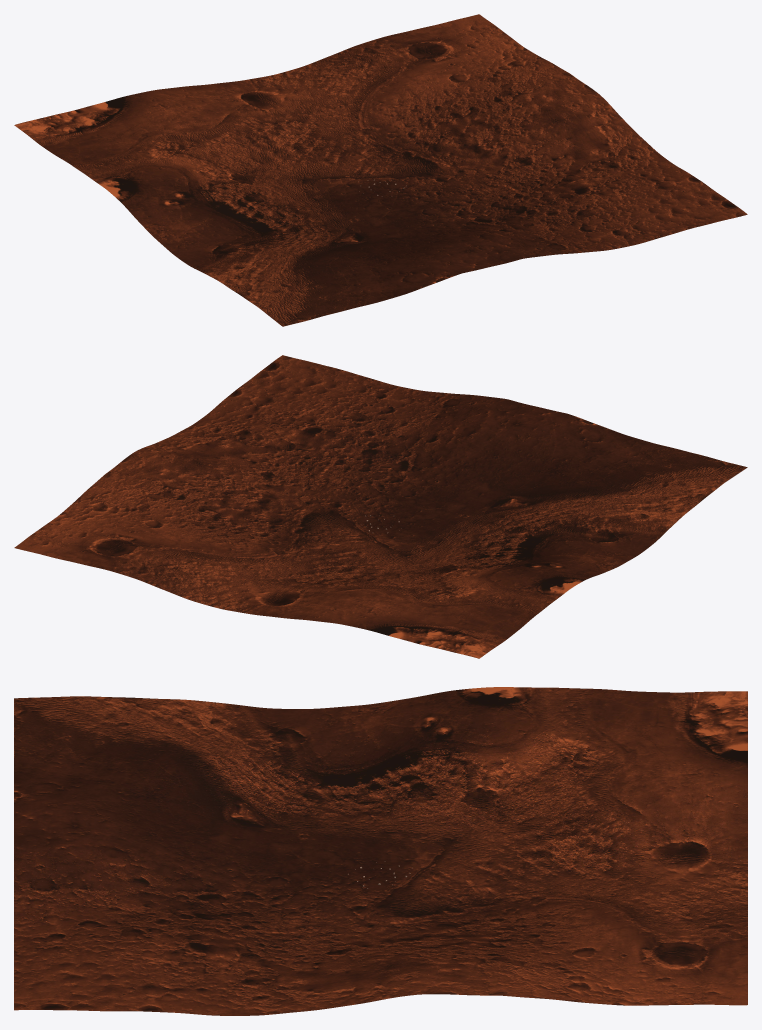
The model's file is JezeroTerrain_UE5.glb.
3 views of the same model, one above another, from view 1: azimuth 30°, elevation 25°; view 2: azimuth 150°, elevation 25°; view 3: azimuth 270°, elevation 25° (orthographic). The views are drawn at different scales.
Visible parts, largest first — view 1: JezeroCrater_Terrain_800m; view 2: JezeroCrater_Terrain_800m; view 3: JezeroCrater_Terrain_800m.
Boxes of the visible parts, x1,y1,x2,y2 form: JezeroCrater_Terrain_800m: (14, 14, 747, 326); JezeroCrater_Terrain_800m: (14, 355, 747, 658); JezeroCrater_Terrain_800m: (14, 687, 747, 1015).
Bounding box in the file's own units: 800 × 44.65 × 800.
2 materials, 1 textured.
